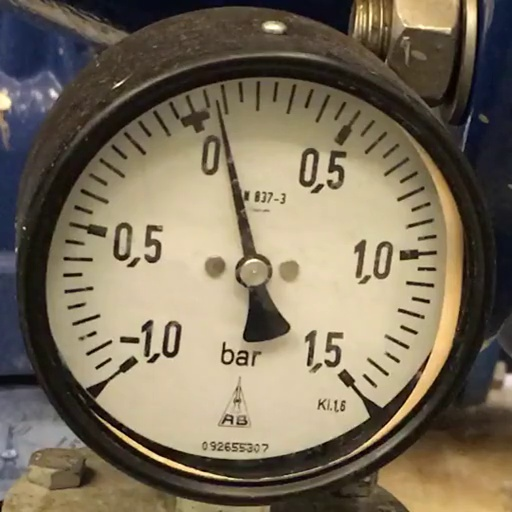base: (235, 254, 272, 288)
circle_plate: (47, 77, 465, 461)
maximum: (338, 368, 356, 388)
minimum: (119, 356, 138, 372)
number: (120, 320, 182, 364), (114, 222, 162, 268), (299, 148, 347, 194), (354, 240, 394, 284), (304, 330, 344, 374), (202, 134, 220, 176)
tip: (214, 98, 220, 104)
